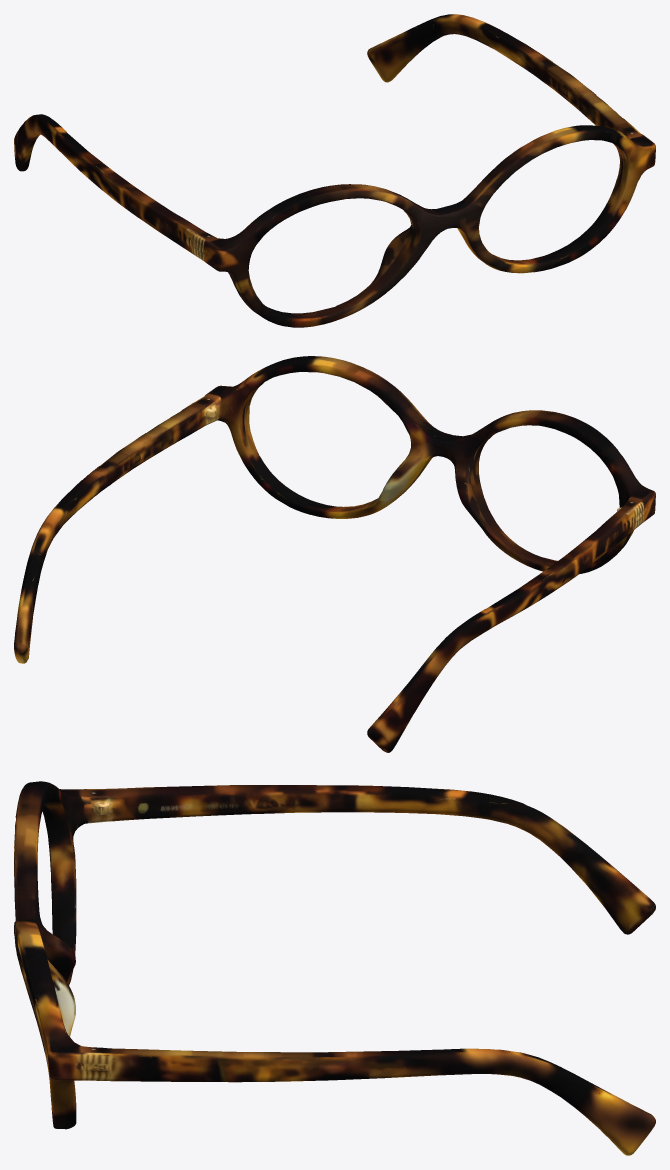
File: miumiu.glb
3 renders of one model, top to bottom at view 1: azimuth 30°, elevation 25°; view 2: azimuth 150°, elevation 25°; view 3: azimuth 270°, elevation 25°, orthographic. The views are drawn at different scales.
Visible parts, largest first — view 1: Mesh1.0; view 2: Mesh1.0; view 3: Mesh1.0.
Part boxes in pixels (x1,y1,x2,y2): Mesh1.0: (14,14,655,327); Mesh1.0: (14,356,655,752); Mesh1.0: (14,781,655,1155).
Bounding box in the file's own units: 2.01 × 0.6085 × 1.97.
Materials: 1 (1 with a texture image).
